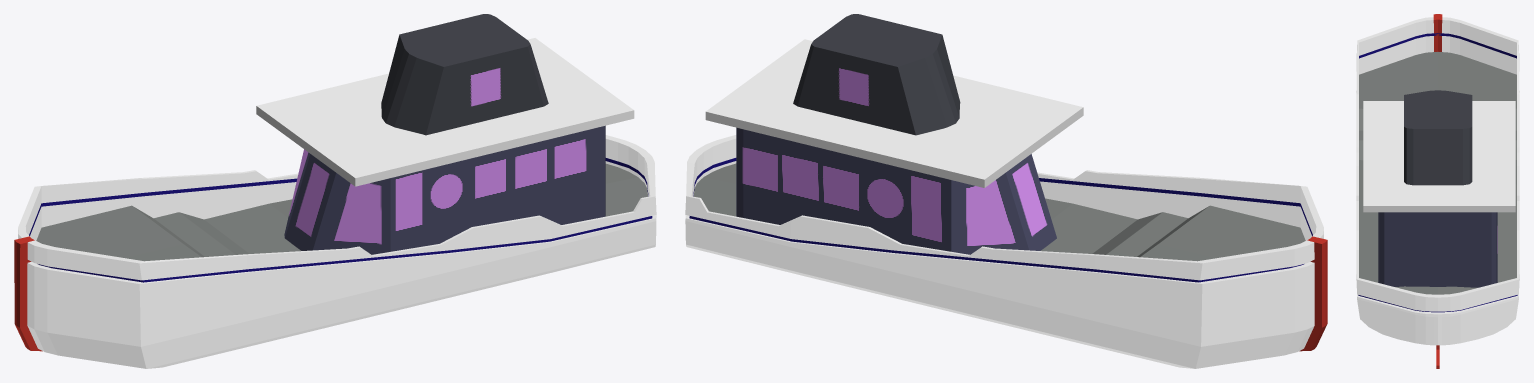
File: yuchuan.gltf
3 renders of one model, left to right at view 1: azimuth 30°, elevation 25°; view 2: azimuth 150°, elevation 25°; view 3: azimuth 270°, elevation 25°, orthographic. The views are drawn at different scales.
Parts seen in each view (by area): view 1: Cube, Cube.004, Cube.005, Cube.006, Cube.002, Cube.001, Cube.003; view 2: Cube, Cube.004, Cube.005, Cube.006, Cube.002, Cube.001, Cube.003; view 3: Cube, Cube.005, Cube.002, Cube.004, Cube.006, Cube.001, Cube.003.
Boxes of the visible parts, x1,y1,x2,y2 form: Cube: (18, 135, 656, 368); Cube.004: (284, 125, 605, 254); Cube.005: (256, 38, 634, 186); Cube.006: (381, 14, 548, 135); Cube.002: (36, 163, 647, 261); Cube.001: (29, 158, 652, 282); Cube.003: (14, 236, 42, 351); Cube: (685, 135, 1323, 368); Cube.004: (736, 127, 1056, 254); Cube.005: (705, 39, 1083, 187); Cube.006: (793, 14, 960, 135); Cube.002: (693, 163, 1305, 261); Cube.001: (689, 158, 1312, 282); Cube.003: (1299, 236, 1327, 351); Cube: (1356, 17, 1519, 345); Cube.005: (1363, 101, 1515, 212); Cube.002: (1359, 52, 1516, 294); Cube.004: (1378, 212, 1497, 287); Cube.006: (1404, 90, 1472, 185); Cube.001: (1358, 33, 1517, 312); Cube.003: (1433, 14, 1442, 368).
Size of the model in its own units: 17.36 by 6.59 by 5.06.
Materials: 7 (2 with a texture image).
